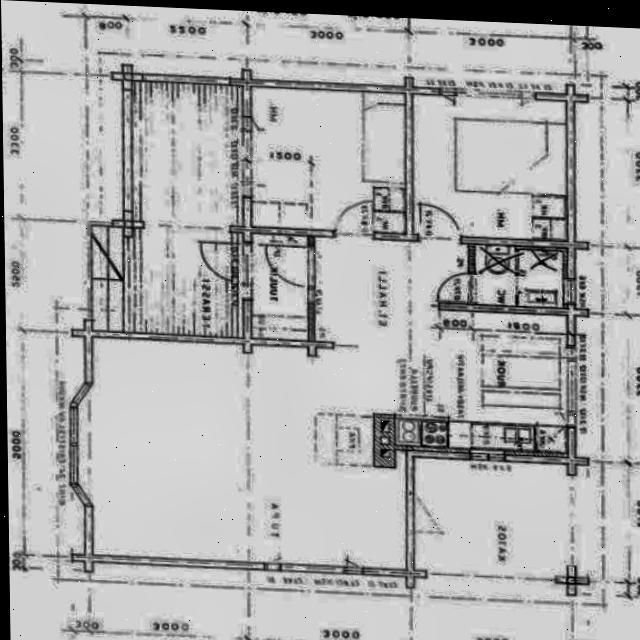room: (405, 94, 573, 242), (245, 87, 410, 235), (132, 79, 243, 228), (471, 244, 569, 309), (251, 233, 307, 342)
